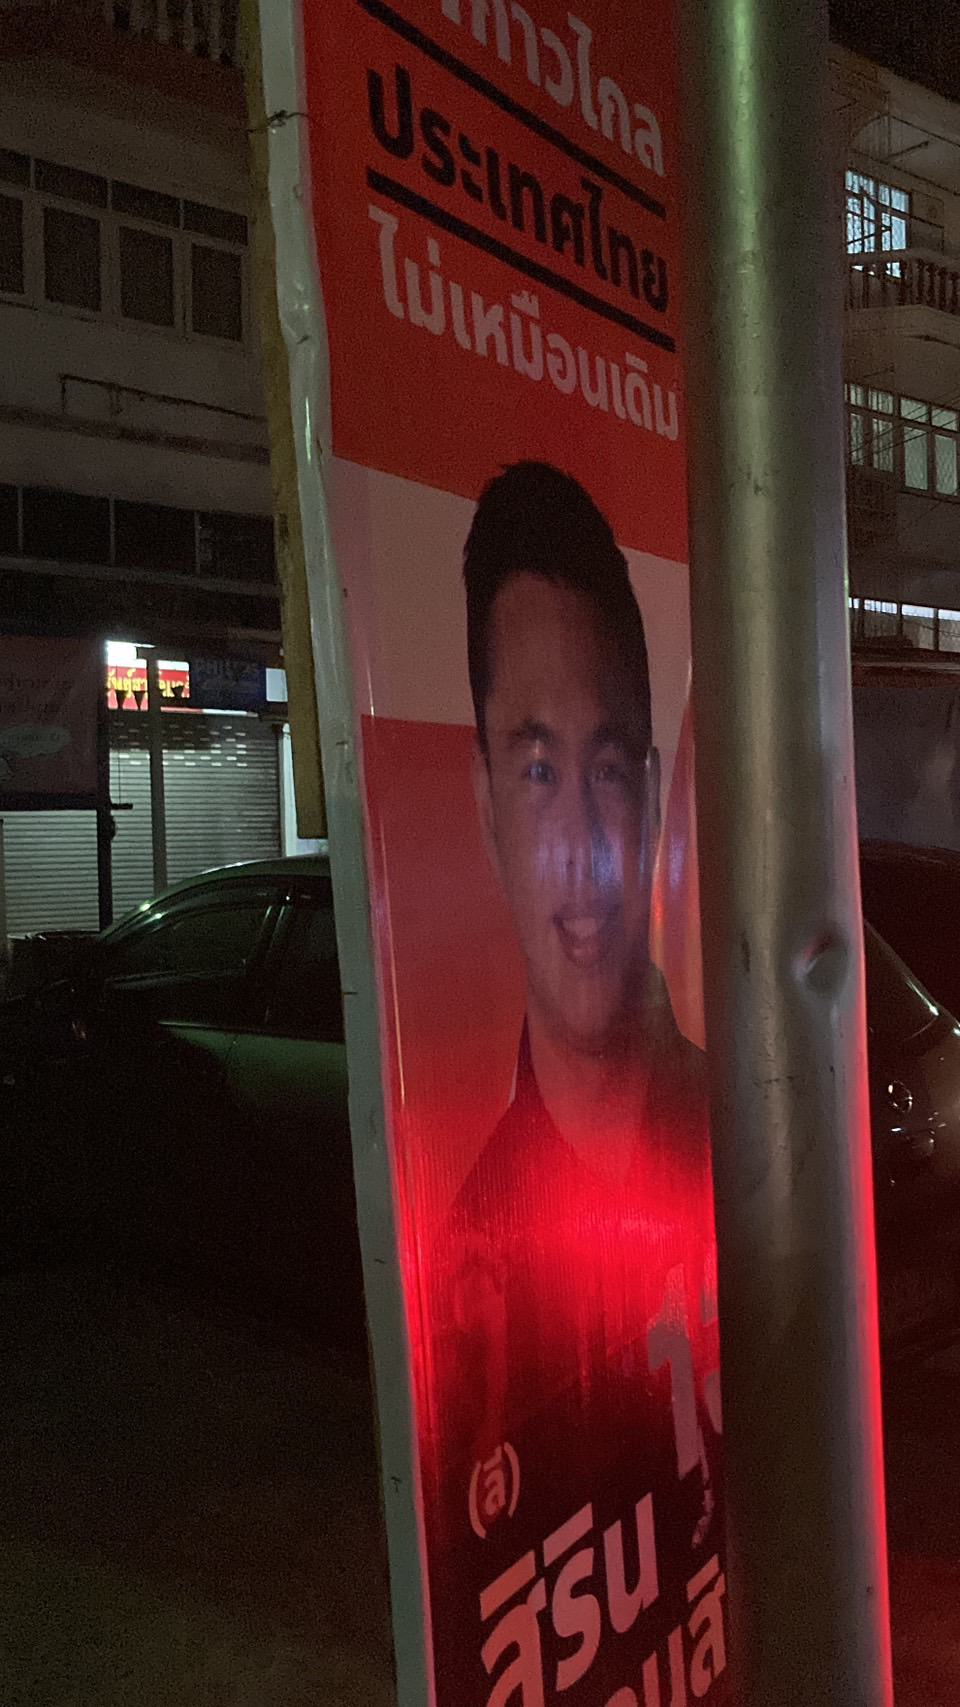Banner: (277, 4, 747, 1707)
